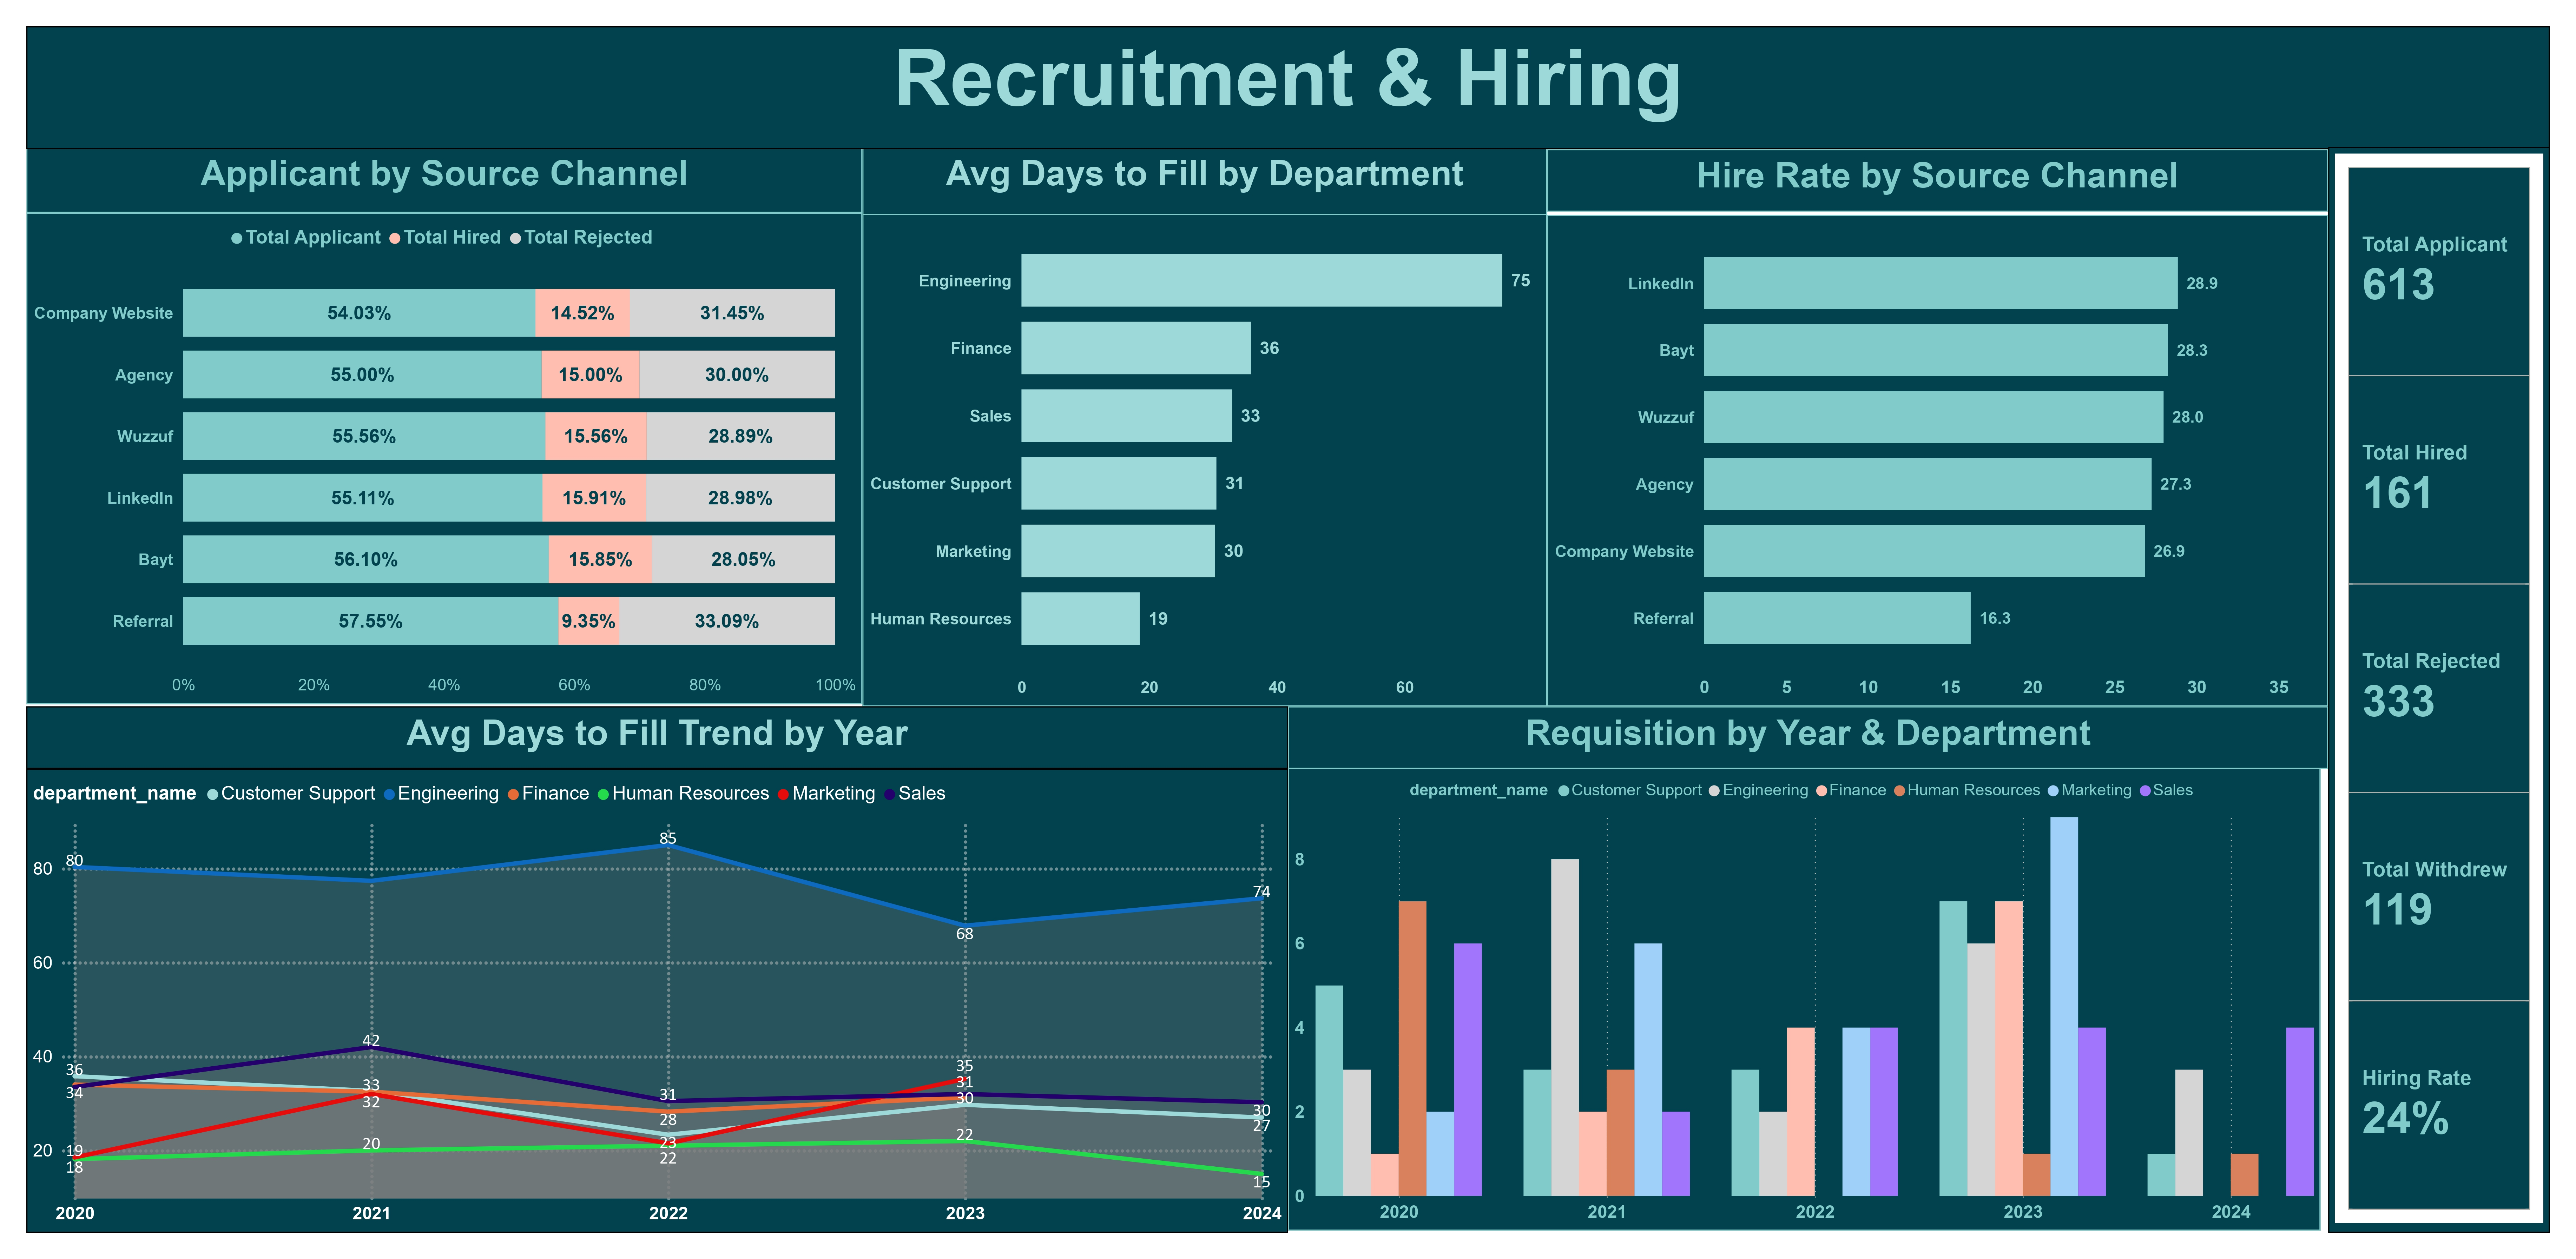

The page's visual inventory and layout, read from the dashboard file:
{"tool":"powerbi","page":{"name":"Recruitment & Hiring","canvas":[2300,1100],"ordinal":3},"visuals":[{"type":"clusteredBarChart","fields":{"Category":["Recruitment_funnel.department_name"],"Y":["Recruitment_funnel.Avg Days to fill"]},"box":[761.7,169.3,624.8,450.5],"z":0},{"type":"textbox","box":[761.7,109.5,624.8,62.2],"z":1000},{"type":"clusteredColumnChart","fields":{"Category":["DateTable.Year"],"Series":["Recruitment_funnel.department_name"],"Y":["Recruitment_funnel.Total Requisition"]},"box":[1150,674.6,940.9,423.2],"z":2000},{"type":"hundredPercentStackedBarChart","fields":{"Category":["Recruitment_funnel.req_source_channel"],"Y":["Recruitment_funnel.Total Applicant","Recruitment_funnel.Total Hired","Recruitment_funnel.Total Rejected"]},"box":[0,170,762,448],"z":3000},{"type":"clusteredBarChart","fields":{"Y":["Recruitment_funnel.Hire Rate %"],"Category":["Recruitment_funnel.req_source_channel"]},"box":[1386.5,171.8,711.9,448.1],"z":4000},{"type":"textbox","box":[0,110,762,60],"z":5000},{"type":"textbox","box":[1386.5,112,711.9,57.3],"z":6000},{"type":"textbox","box":[1150,619.8,948.4,57.3],"z":7000},{"type":"textbox","box":[0,0,2300,112],"z":8000},{"type":"lineChart","fields":{"Category":["DateTable.Year"],"Y":["Recruitment_funnel.Avg Days to fill"],"Series":["Recruitment_funnel.department_name"]},"box":[0,677.1,1150,423.2],"z":9000},{"type":"textbox","box":[0,619.8,1150,57.3],"z":10000},{"type":"cardVisual","fields":{"Data":["Recruitment_funnel.Total Applicant","Recruitment_funnel.Total Hired","Recruitment_funnel.Total Rejected","Recruitment_funnel.Total Withdrew","Recruitment_funnel.Overall Hire Rate"]},"box":[2098.4,109.5,201.6,990.7],"z":10001}]}

Visuals, with their boxes on the page's 2300x1100 design canvas (x1, y1, x2, y2). These are canvas units, not pixel positions in the 2576x1259 screenshot, which may show the page scaled, cropped or inside an application window:
clusteredBarChart - Recruitment_funnel.department_name x Recruitment_funnel.Avg Days to fill: {"x1": 762, "y1": 169, "x2": 1386, "y2": 620}
textbox: {"x1": 762, "y1": 110, "x2": 1386, "y2": 172}
clusteredColumnChart - DateTable.Year x Recruitment_funnel.department_name: {"x1": 1150, "y1": 675, "x2": 2091, "y2": 1098}
hundredPercentStackedBarChart - Recruitment_funnel.req_source_channel x Recruitment_funnel.Total Applicant: {"x1": 0, "y1": 170, "x2": 762, "y2": 618}
clusteredBarChart - Recruitment_funnel.Hire Rate % x Recruitment_funnel.req_source_channel: {"x1": 1386, "y1": 172, "x2": 2098, "y2": 620}
textbox: {"x1": 0, "y1": 110, "x2": 762, "y2": 170}
textbox: {"x1": 1386, "y1": 112, "x2": 2098, "y2": 169}
textbox: {"x1": 1150, "y1": 620, "x2": 2098, "y2": 677}
textbox: {"x1": 0, "y1": 0, "x2": 2300, "y2": 112}
lineChart - DateTable.Year x Recruitment_funnel.Avg Days to fill: {"x1": 0, "y1": 677, "x2": 1150, "y2": 1100}
textbox: {"x1": 0, "y1": 620, "x2": 1150, "y2": 677}
cardVisual - Recruitment_funnel.Total Applicant x Recruitment_funnel.Total Hired: {"x1": 2098, "y1": 110, "x2": 2300, "y2": 1100}
